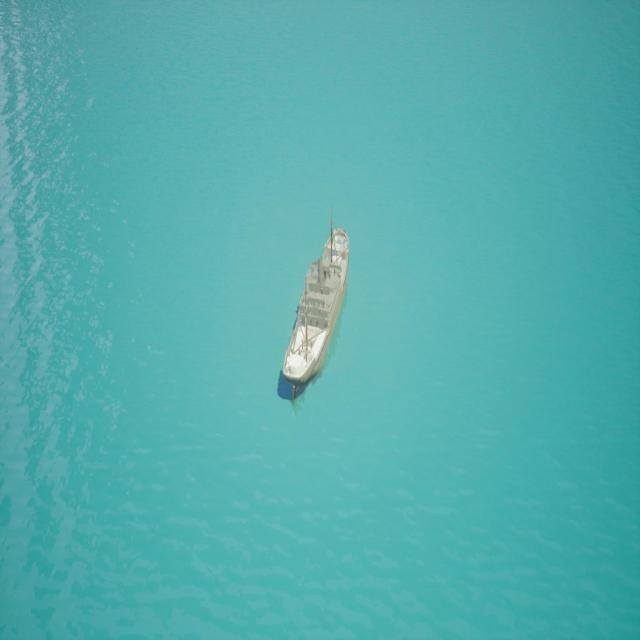fishing ship: (283, 212, 352, 407)
